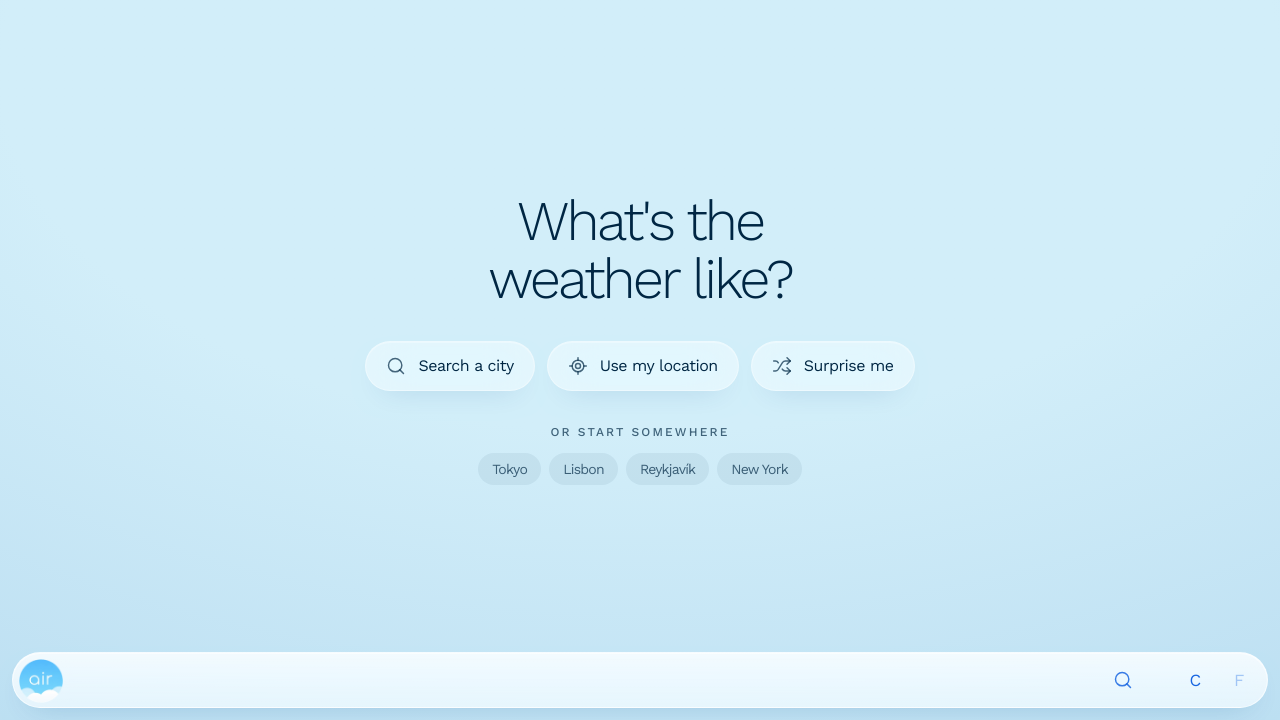
Test: nav shell › holds the panel open with the message inline when the selection errors
Step 1. Click the button named "Search" → [1123, 680], box [1101,658,1145,702]
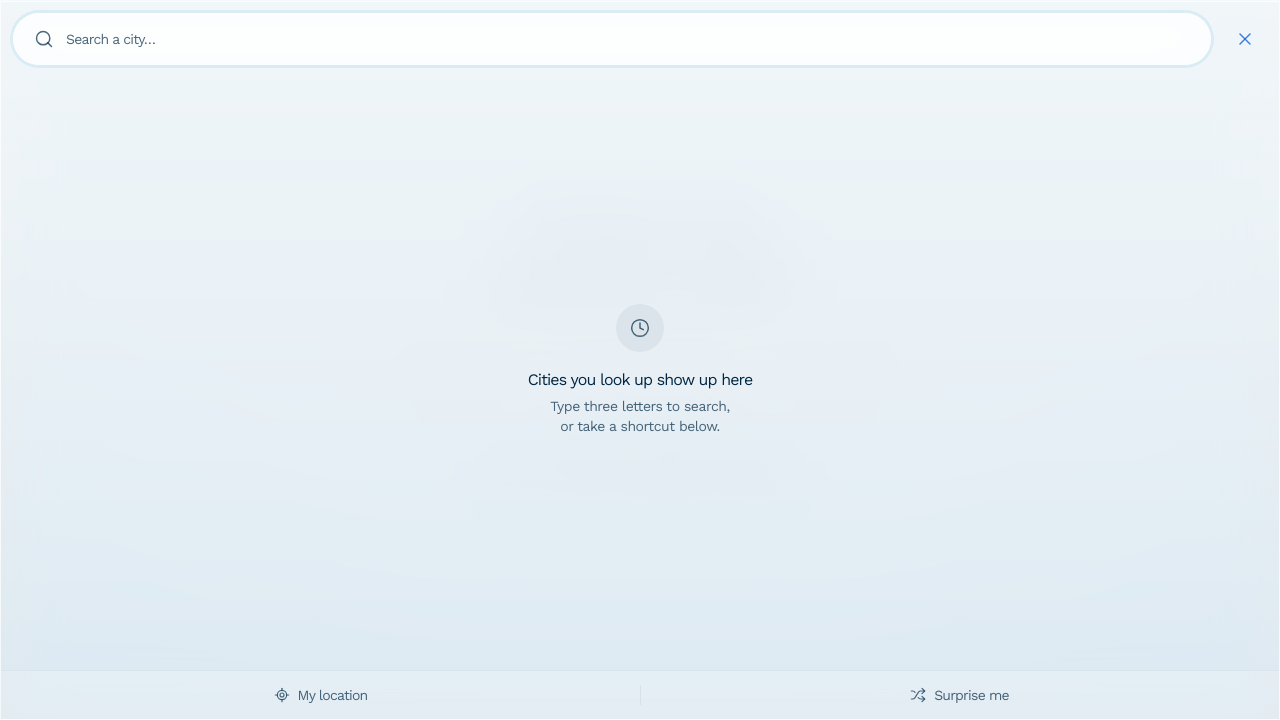
Step 2. Type "Paris" into the search field → [628, 39], box [66,29,1190,49]
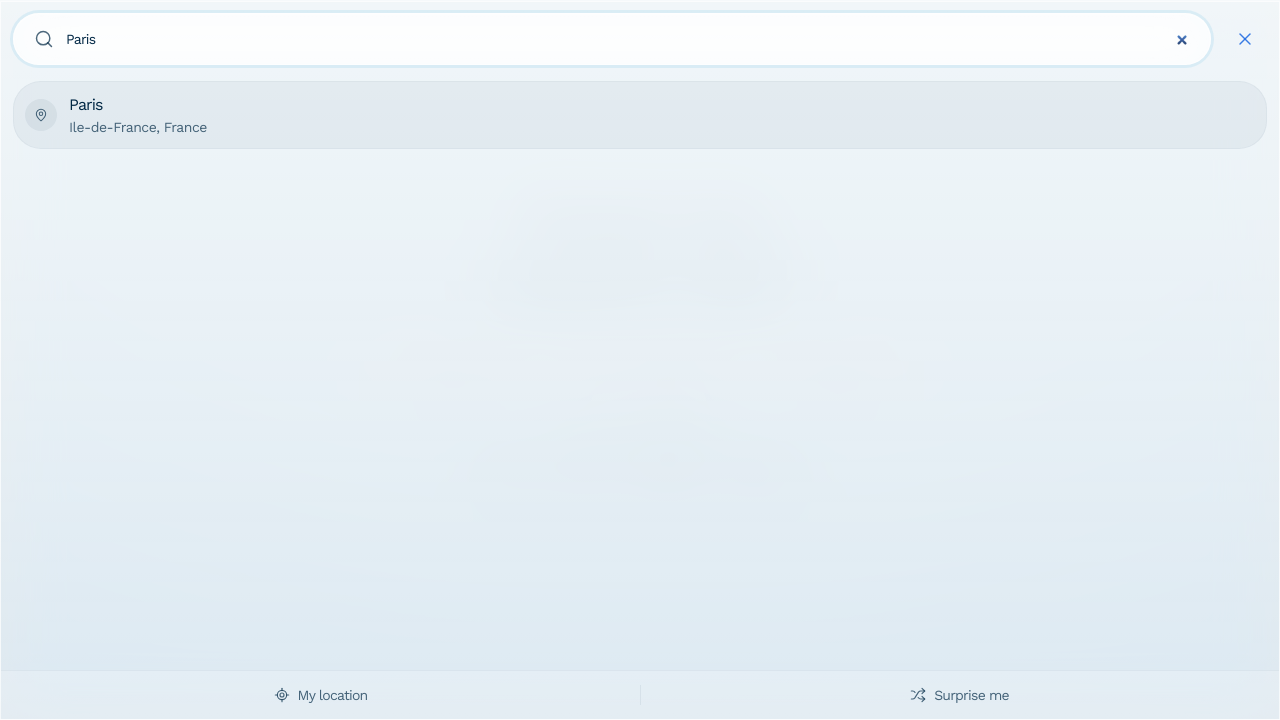
Step 3. Click the button with aria-label "search weather for paris" → [41, 115], box [13,81,1267,149]
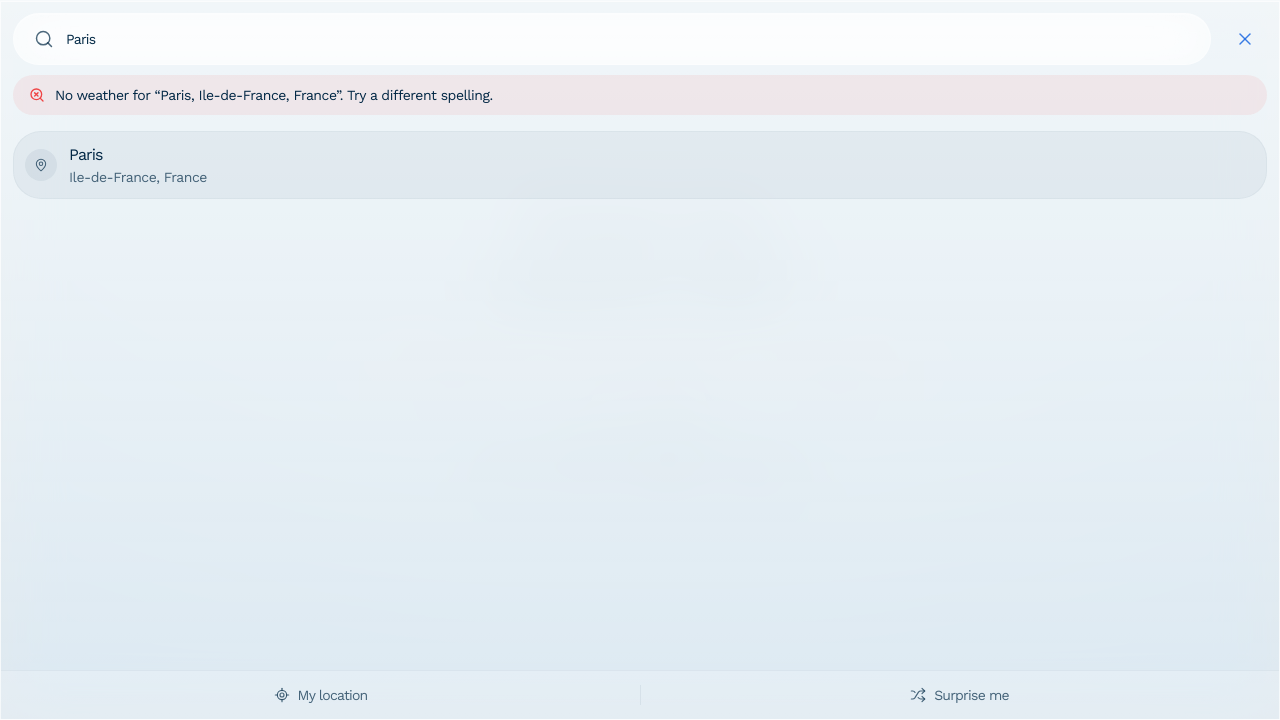
Now the dialog is shown
Now the search field is enabled, box [66,29,1190,49]
Now the message shows "No weather for", box [55,87,493,103]
